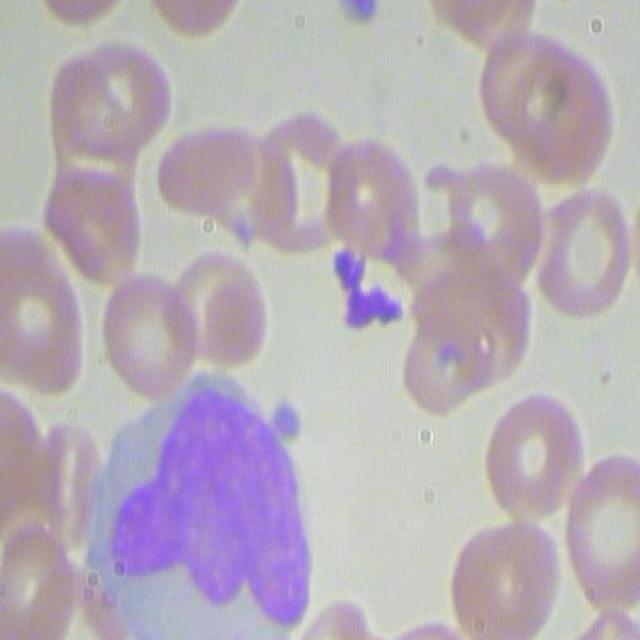RBC: (480, 26, 617, 190), (396, 250, 508, 424), (228, 107, 348, 265), (42, 34, 166, 176), (0, 230, 88, 398), (533, 178, 635, 320), (319, 126, 416, 273), (484, 386, 582, 530), (442, 158, 546, 287), (43, 160, 139, 298), (167, 240, 268, 370), (447, 517, 552, 640), (101, 277, 198, 403), (563, 450, 640, 606), (0, 524, 70, 636), (422, 0, 540, 47), (144, 0, 248, 36)
WBC: (117, 393, 336, 634)
